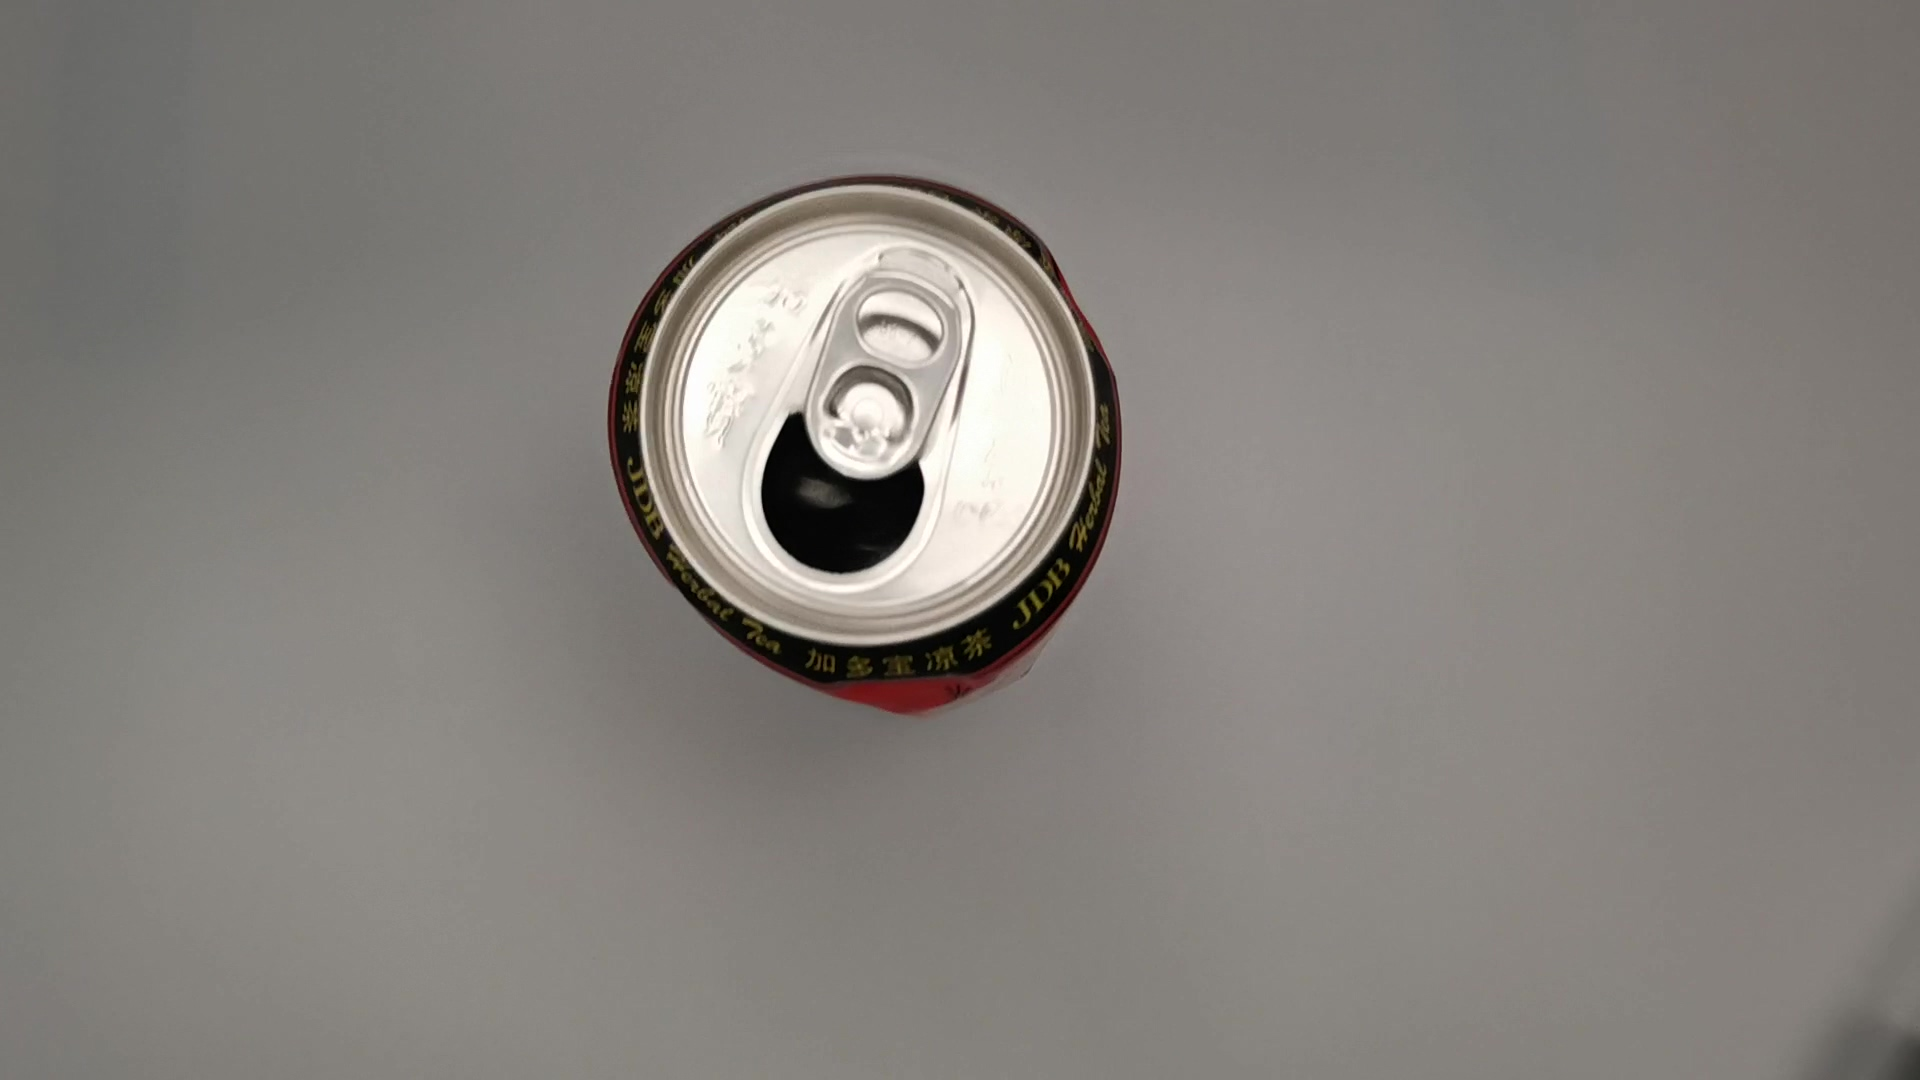can: (600, 164, 1129, 735)
